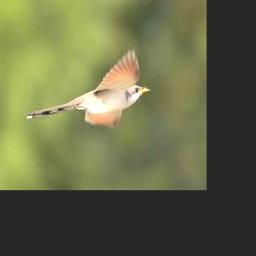Cuckoo: (27, 49, 151, 125)
